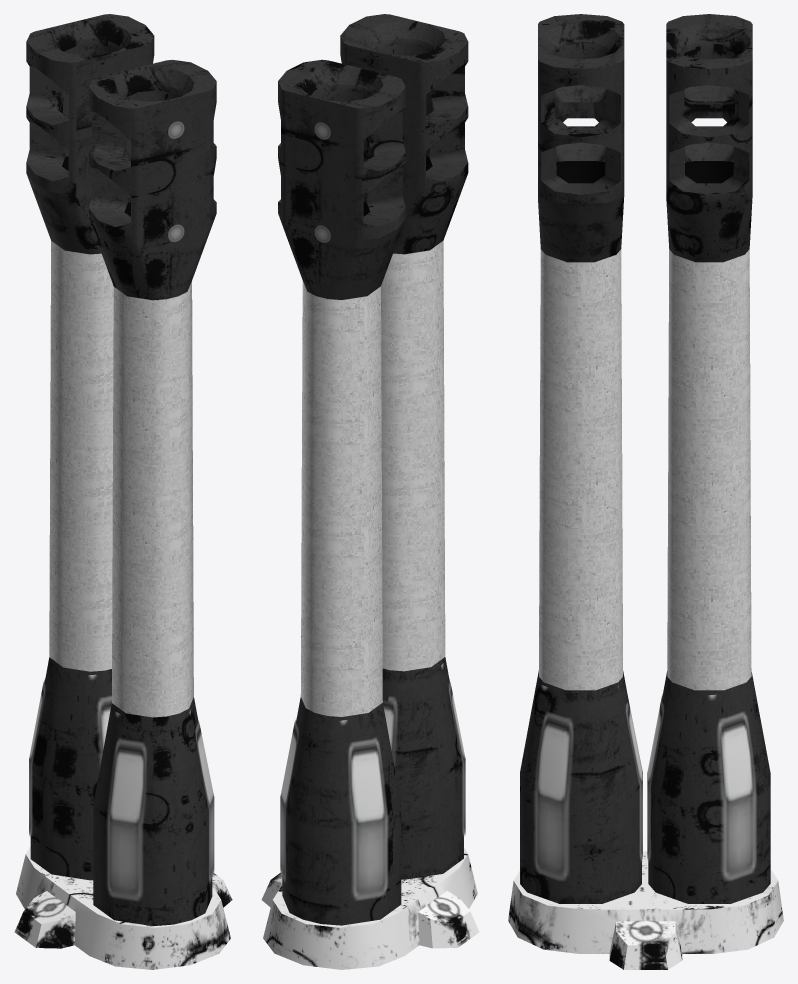
The model's file is brvs-repeater.glb.
The picture shows the model from 3 angles, left to right: view 1: azimuth 30°, elevation 25°; view 2: azimuth 150°, elevation 25°; view 3: azimuth 270°, elevation 25°; orthographic projection. The views are drawn at different scales.
Parts seen in each view (by area): view 1: behr_bal_rep_s2, barrel1; view 2: behr_bal_rep_s2, barrel1; view 3: behr_bal_rep_s2, barrel1.
Part boxes in pixels (x1,y1,x2,y2): behr_bal_rep_s2: (14, 14, 232, 969); barrel1: (49, 156, 193, 717); behr_bal_rep_s2: (261, 14, 479, 969); barrel1: (300, 156, 445, 716); behr_bal_rep_s2: (508, 14, 783, 969); barrel1: (539, 161, 751, 690).
Bounding box in the file's own units: 0.176 × 0.7317 × 0.2083.
5 materials, 4 textured.
